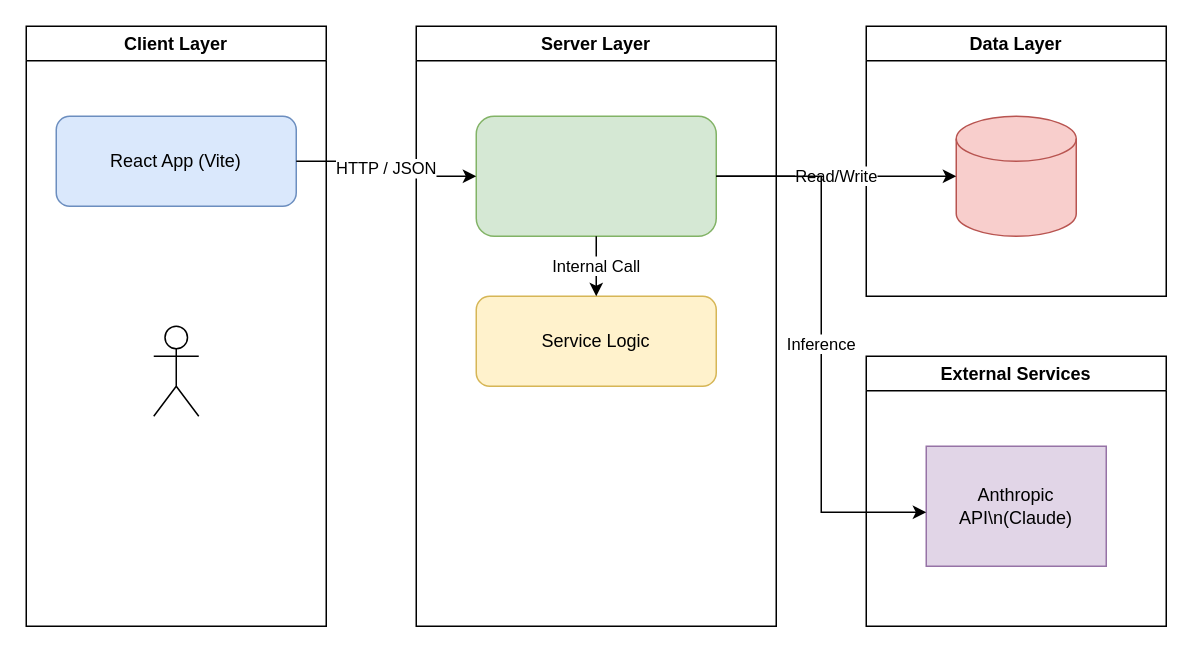
Some shapes in this 1193 by 653 pixel diagram are drawn without their labels. The shapes that lost their labels are listed below. From the top down, each one's centre as x and y in pixels, then its label:
the point at 595,175: Quarkus API
the point at 1015,175: MongoDB
the point at 175,370: Browser
